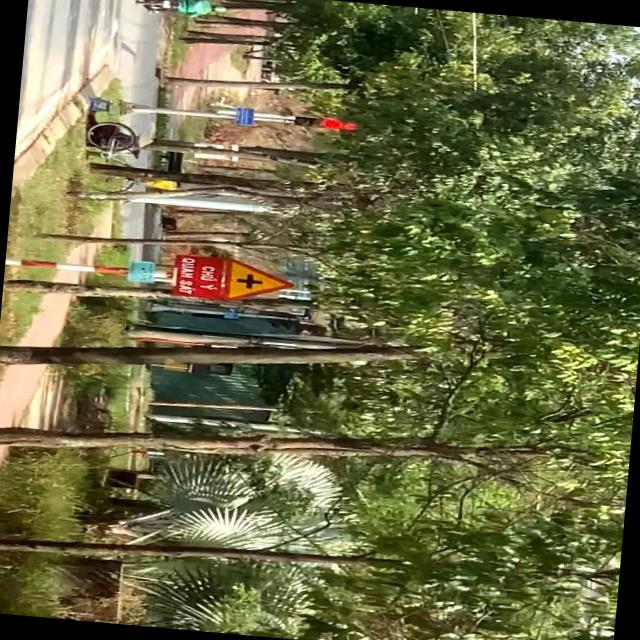W-205a: (219, 256, 296, 306)
